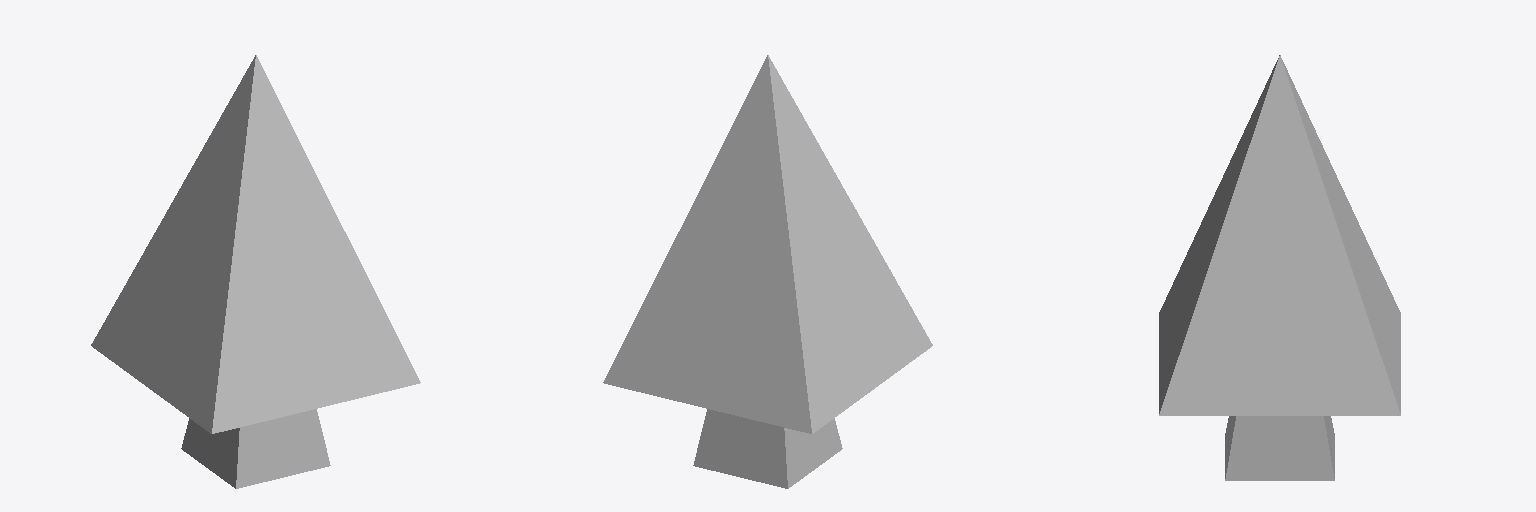
File: tree_pyramid.obj
3 renders of one model, left to right at view 1: azimuth 30°, elevation 25°; view 2: azimuth 150°, elevation 25°; view 3: azimuth 270°, elevation 25°, orthographic.
Parts seen in each view (by area): view 1: Default; view 2: Default; view 3: Default.
Boxes of the visible parts, x1,y1,x2,y2 form: Default: [91, 55, 420, 488]; Default: [603, 55, 932, 488]; Default: [1159, 55, 1400, 480].
Bounding box in the file's own units: 1.1 × 2.03 × 1.1.